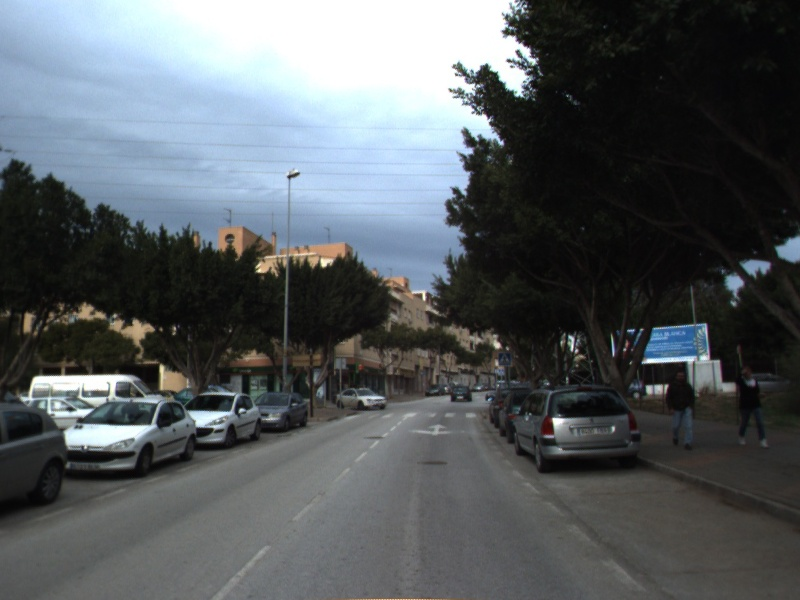STRAIGHT_LEFT_RIGHT: (406, 421, 467, 437)
